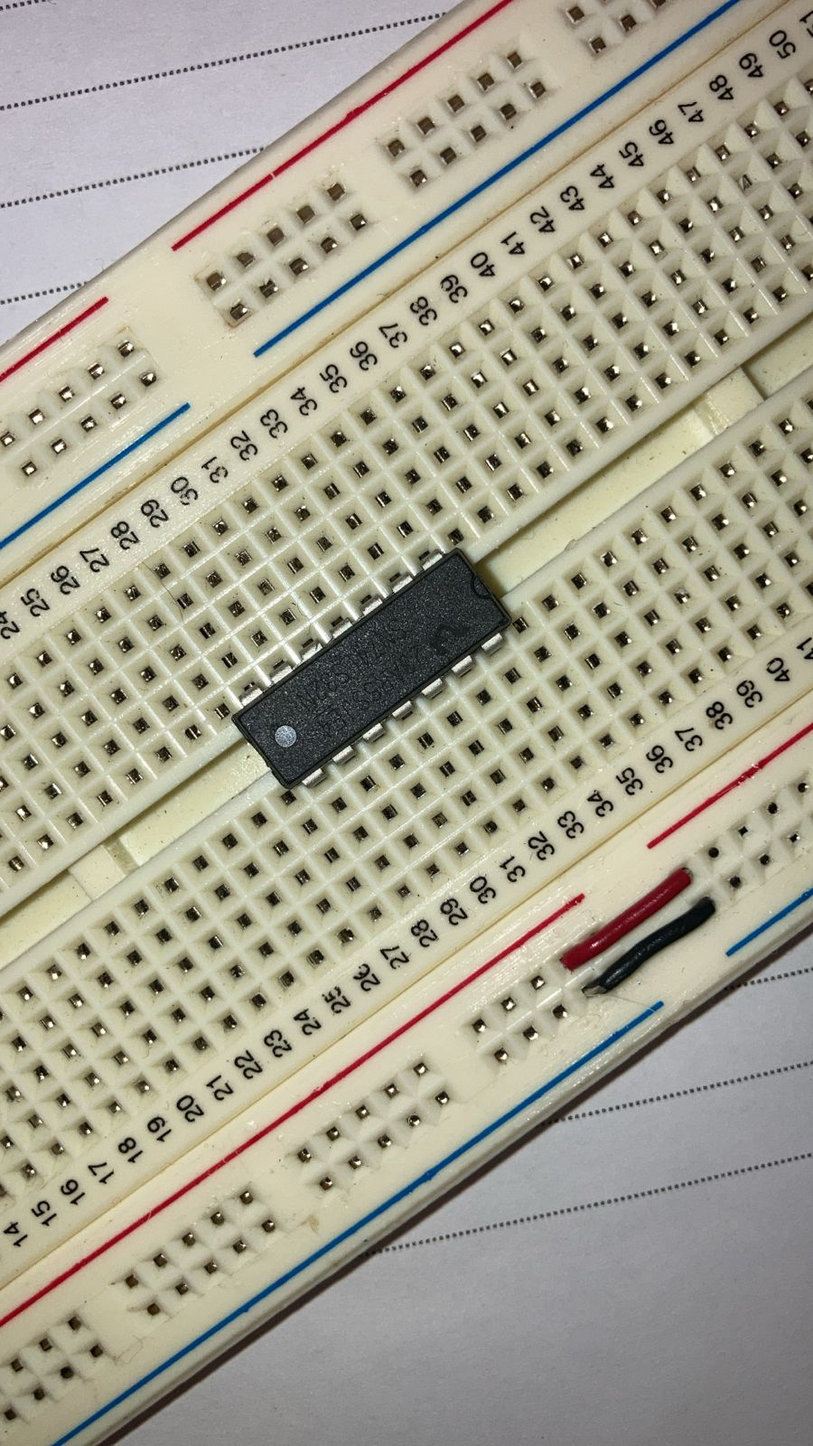IC: (221, 538, 526, 807)
notch: (469, 572, 497, 602)
